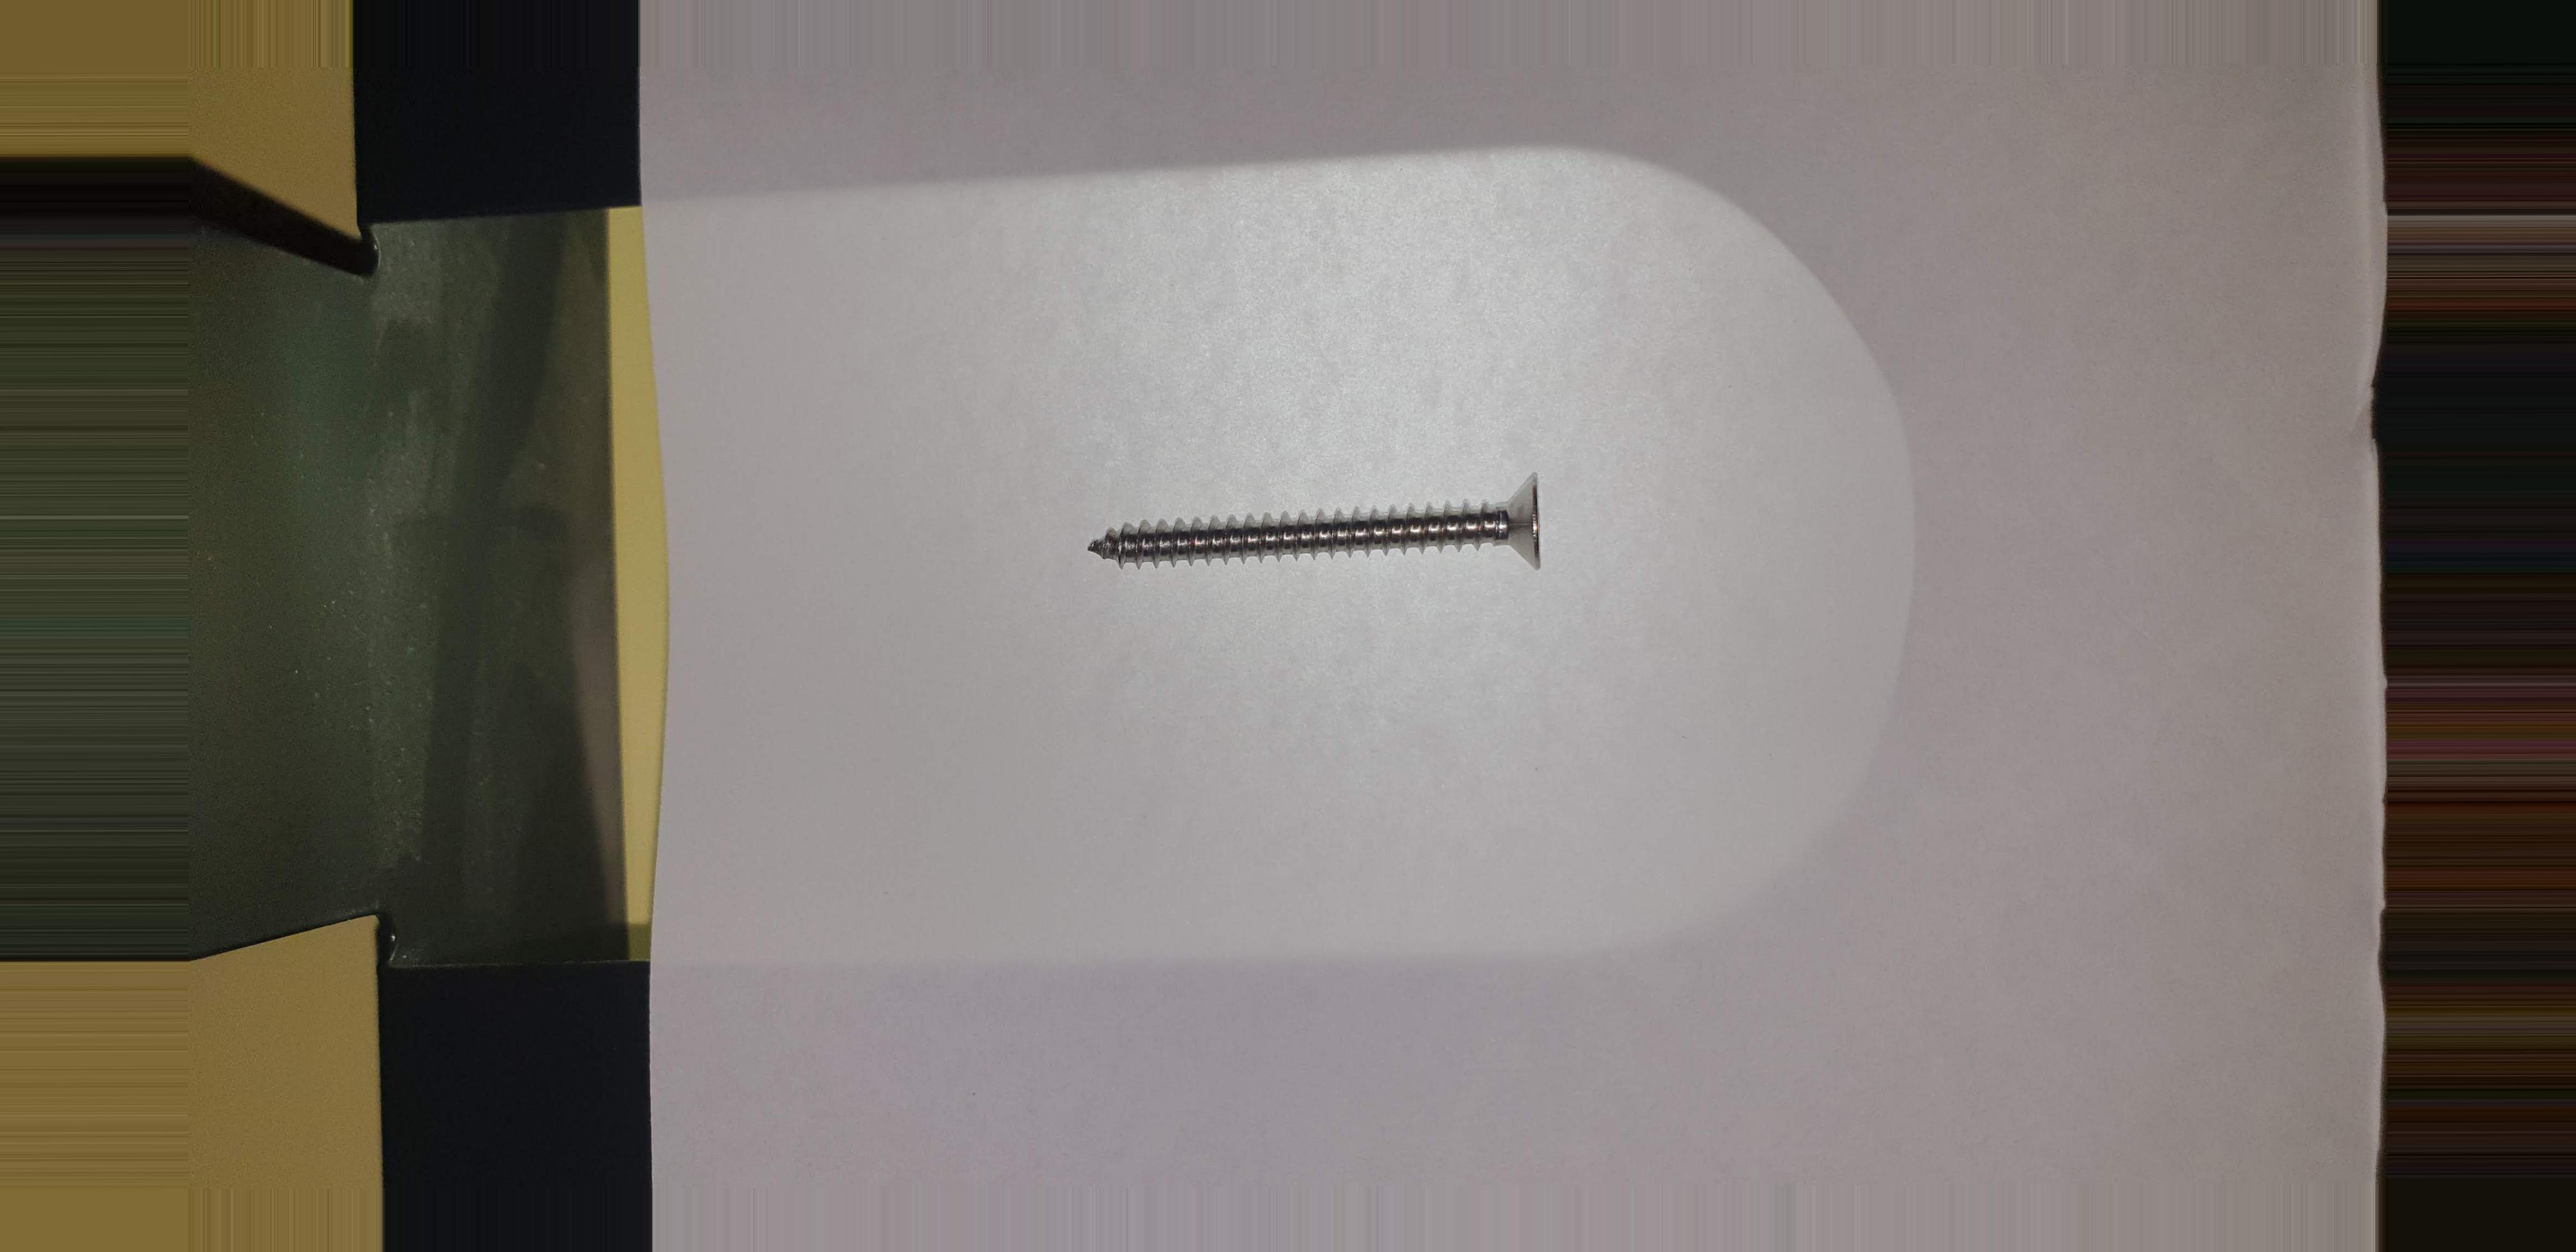fastener: (1020, 437, 1649, 614)
